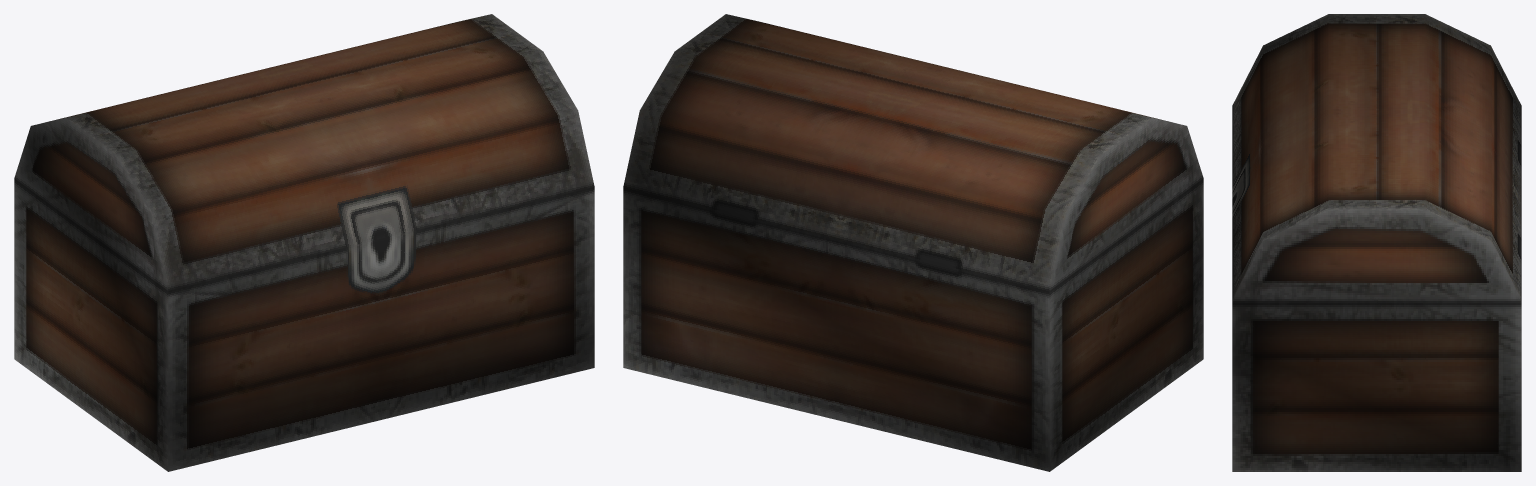
File: chest_1.glb
3 views of the same model, side by side, from view 1: azimuth 30°, elevation 25°; view 2: azimuth 150°, elevation 25°; view 3: azimuth 270°, elevation 25° (orthographic). The views are drawn at different scales.
Visible parts, largest first — view 1: chest_1; view 2: chest_1; view 3: chest_1.
Part boxes in pixels (x1,y1,x2,y2): chest_1: [14, 14, 594, 471]; chest_1: [623, 14, 1203, 471]; chest_1: [1232, 14, 1521, 471].
Bounding box in the file's own units: 3.2 × 2 × 2.
1 material, 1 textured.
